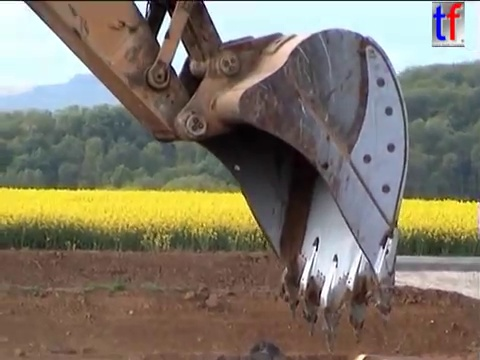excavator: (19, 1, 413, 355)
truck: (348, 350, 388, 360)
